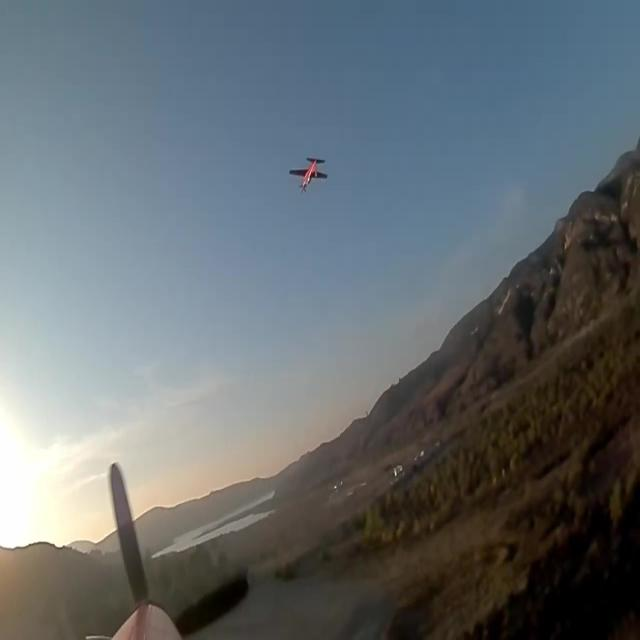iha: (289, 156, 328, 193)
